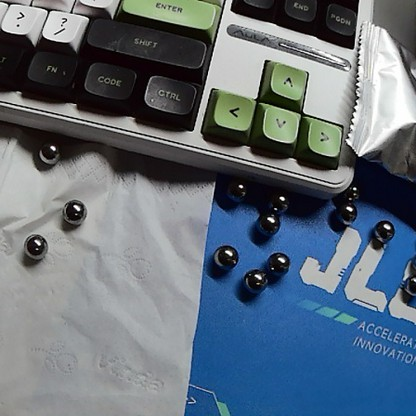ironball: (211, 242, 246, 278), (19, 232, 55, 266), (57, 196, 91, 231), (250, 207, 286, 240), (260, 186, 294, 215), (263, 249, 295, 279), (33, 140, 63, 170), (330, 200, 358, 229), (239, 268, 266, 297), (225, 175, 251, 205), (370, 217, 392, 244), (338, 177, 360, 200), (406, 274, 414, 298)
